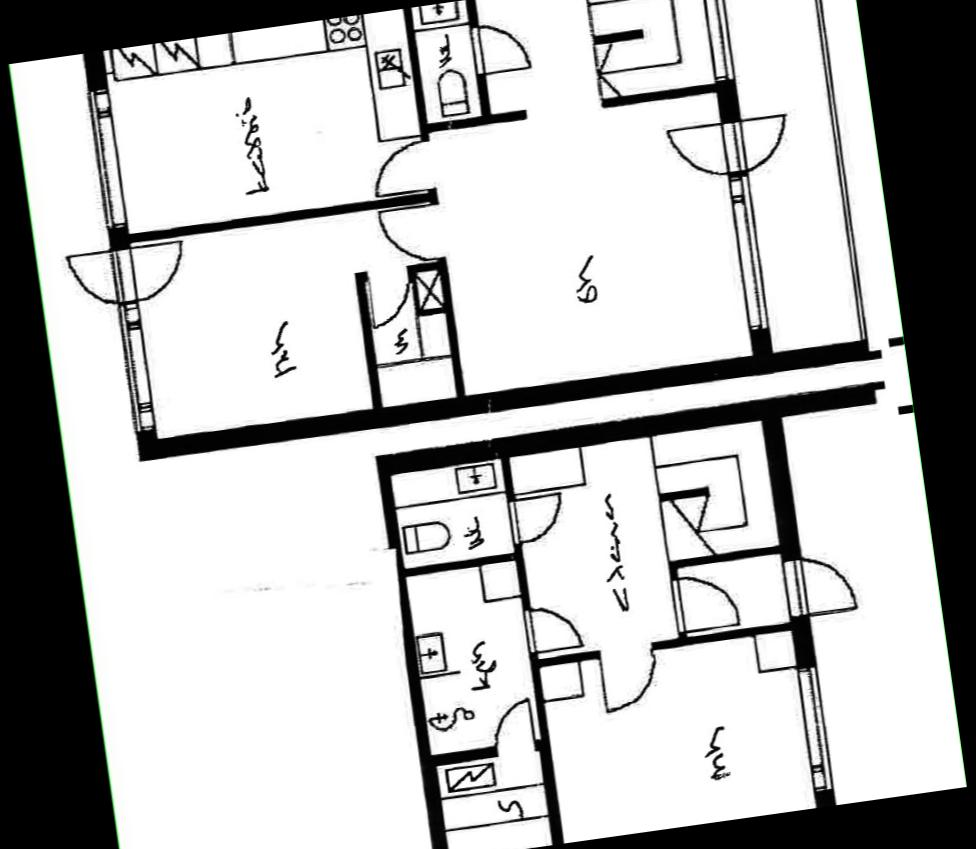door: (774, 539, 860, 620), (106, 237, 192, 307), (719, 103, 799, 178), (663, 115, 749, 184), (374, 196, 450, 271), (591, 640, 666, 713), (666, 563, 742, 632), (364, 130, 439, 198), (64, 240, 132, 313), (464, 10, 532, 78), (504, 484, 572, 546), (518, 596, 586, 658), (362, 260, 420, 332), (486, 692, 541, 757)
window: (722, 164, 786, 333), (788, 652, 852, 803), (107, 294, 168, 438), (82, 79, 134, 237), (692, 0, 747, 86)
